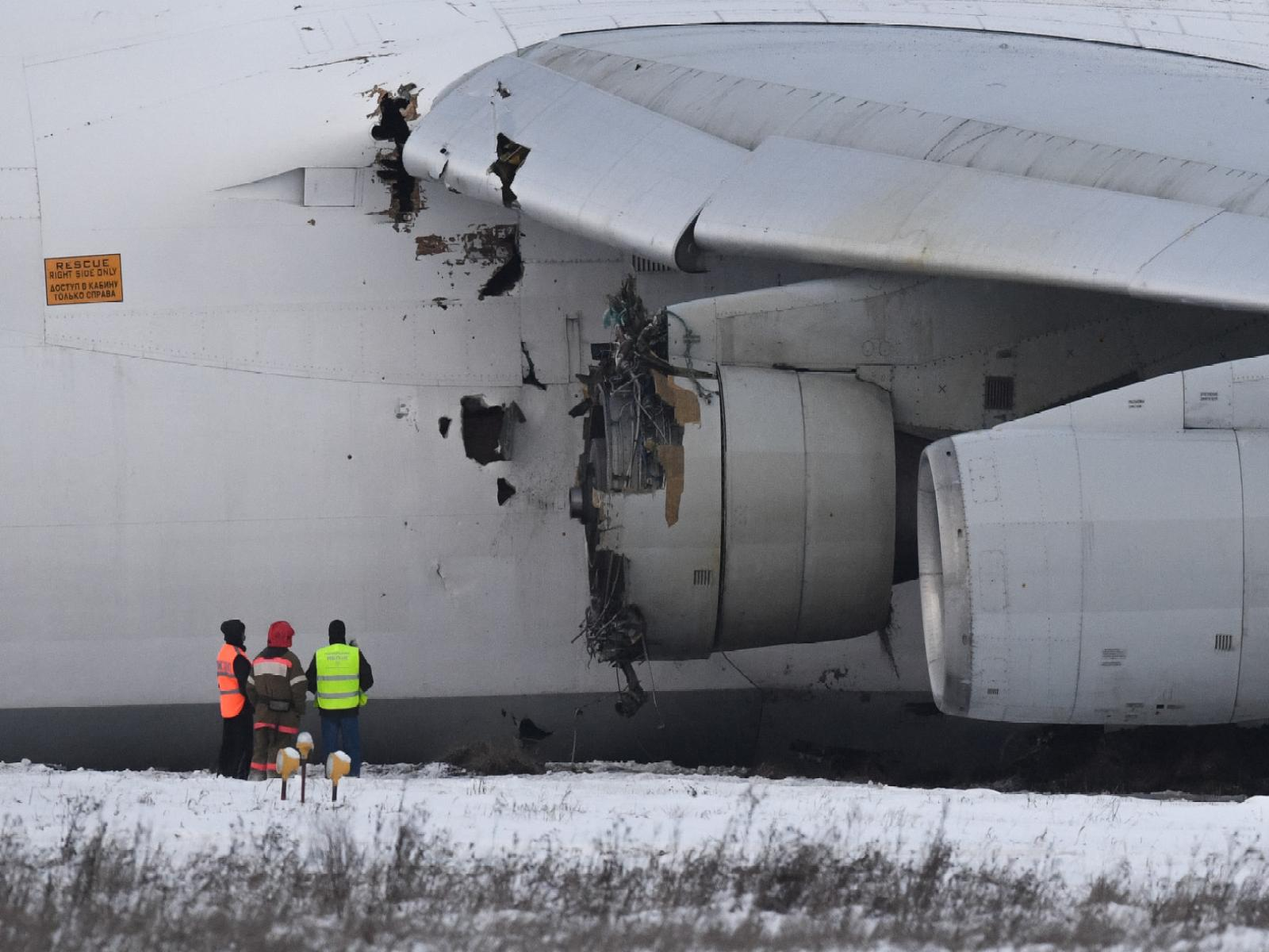Engine_damage: (585, 369, 682, 493), (582, 548, 646, 713), (595, 268, 674, 388), (616, 398, 672, 444), (655, 372, 700, 424), (658, 444, 683, 525), (614, 456, 643, 488)
Fuselage_damage: (371, 85, 418, 219), (461, 395, 525, 465), (478, 228, 524, 299), (372, 93, 410, 151), (521, 341, 546, 389), (497, 478, 516, 504), (439, 416, 451, 437)
Skin_Cover: (415, 236, 447, 257)
Wing_damage: (488, 133, 529, 206), (674, 214, 707, 272), (494, 79, 510, 98)
